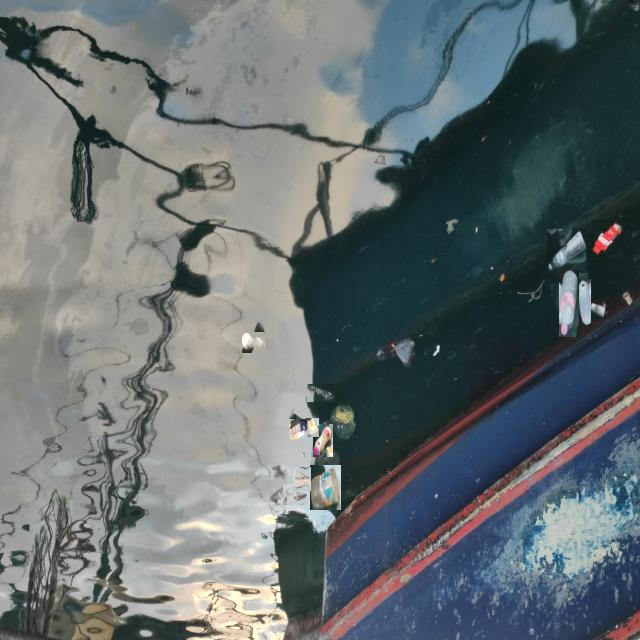Juice box: (289, 419, 308, 442)
Plastic bag: (373, 335, 418, 372), (330, 401, 357, 443), (283, 484, 309, 505), (306, 384, 334, 402)
Plastic bottle: (547, 229, 587, 273), (310, 465, 341, 510), (559, 270, 579, 337), (577, 279, 591, 327), (312, 424, 332, 457), (242, 332, 264, 353)
Plastic cup: (590, 300, 606, 319)
Plastic packaging: (592, 220, 623, 258), (293, 467, 311, 491), (306, 418, 319, 437)
